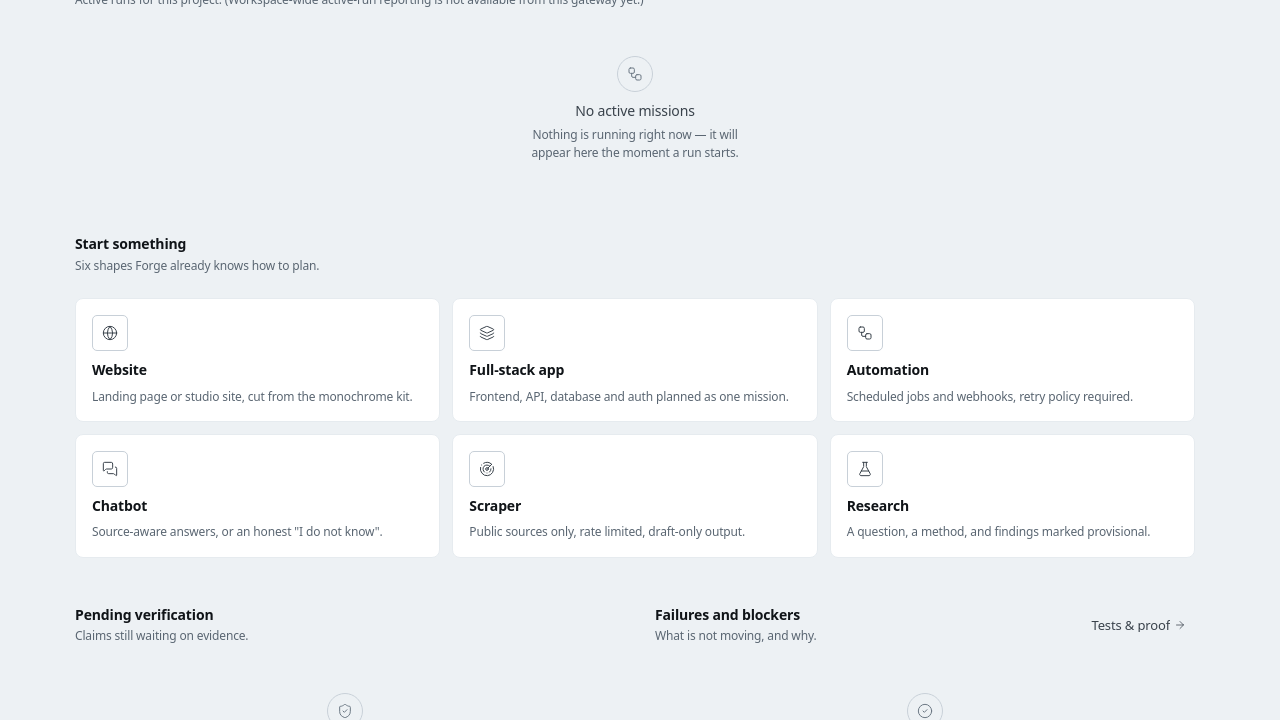
Test: Home — "Start something" template cards › opens NewProjectDialog seeded with the clicked template's name, and creating a real project activates it
This screenshot has width=1280, height=720.
(page scrolled)
Click the button "Website" at (110, 333), box 75,298 -> 440,422
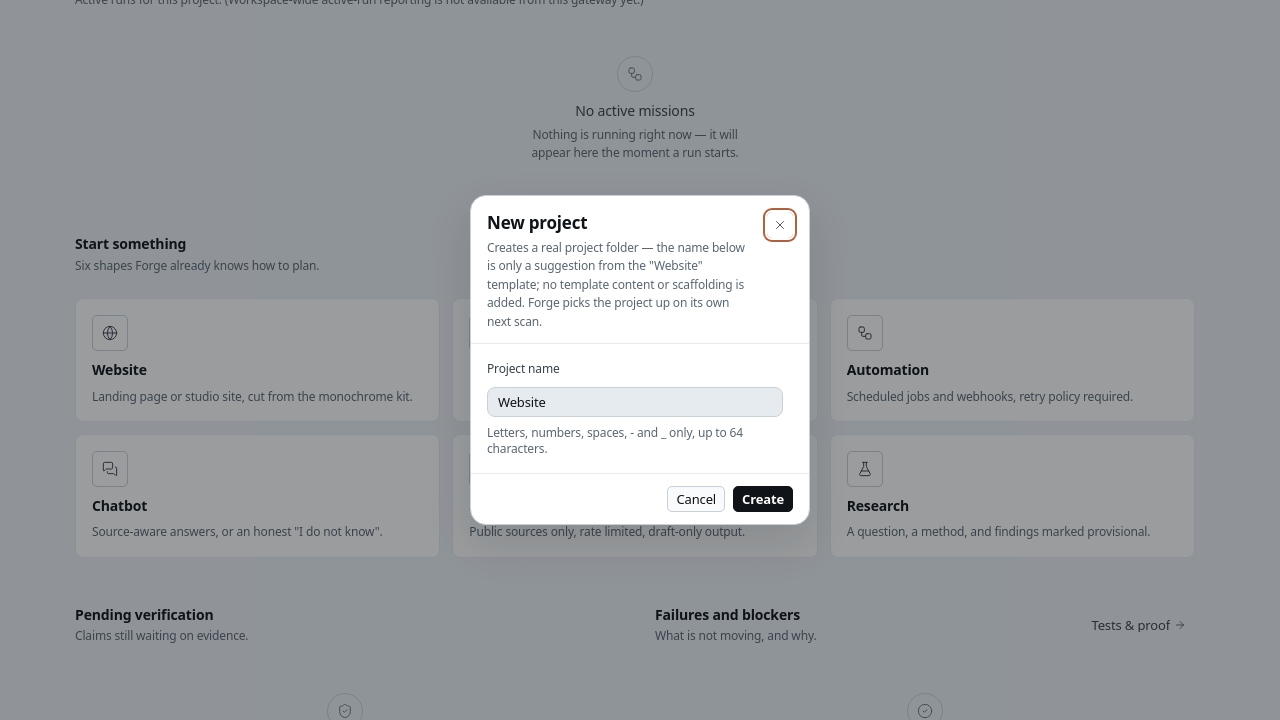
Expected: the field labelled "Project name" holds "Website", 496,392 -> 774,412
Expected: the dialog "New project" shows "only a suggestion", 487,238 -> 745,330
Expected: the dialog "New project" shows "no template content or scaffolding is added", 487,238 -> 745,330
Click the button "Create" at (763, 499), box 733,486 -> 793,512
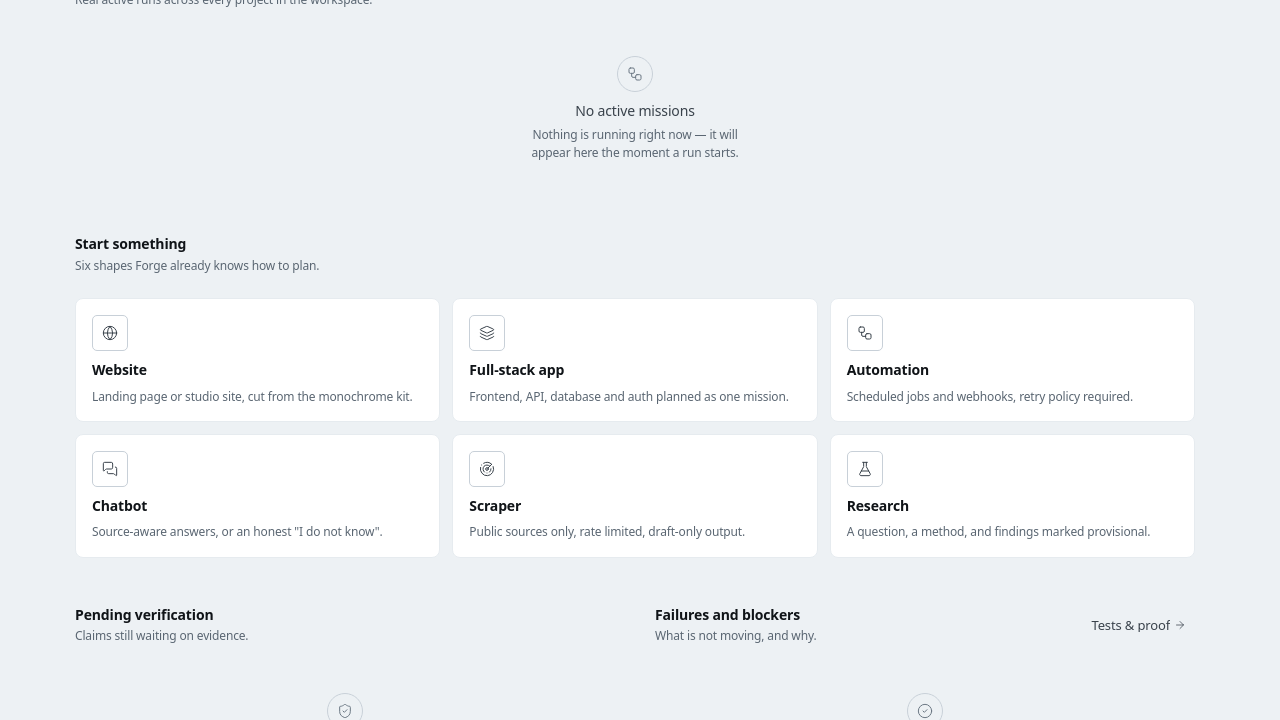
Expected: the heading "New project" is gone
